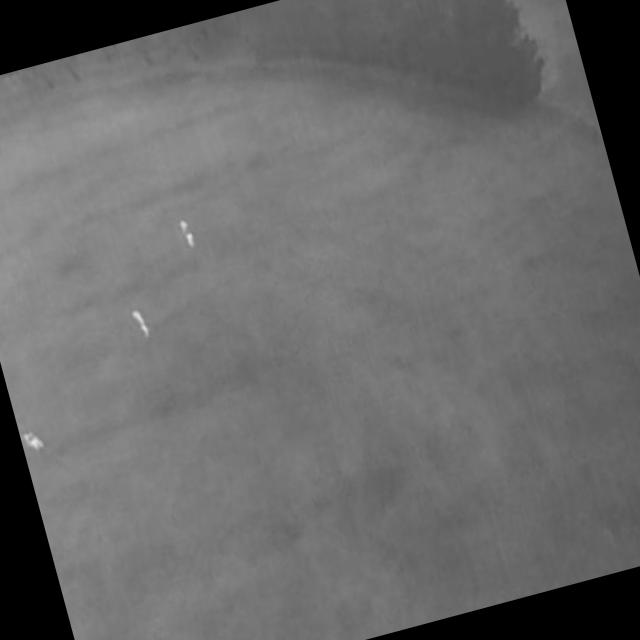person: (131, 308, 152, 340), (22, 430, 46, 455), (179, 219, 197, 251)
